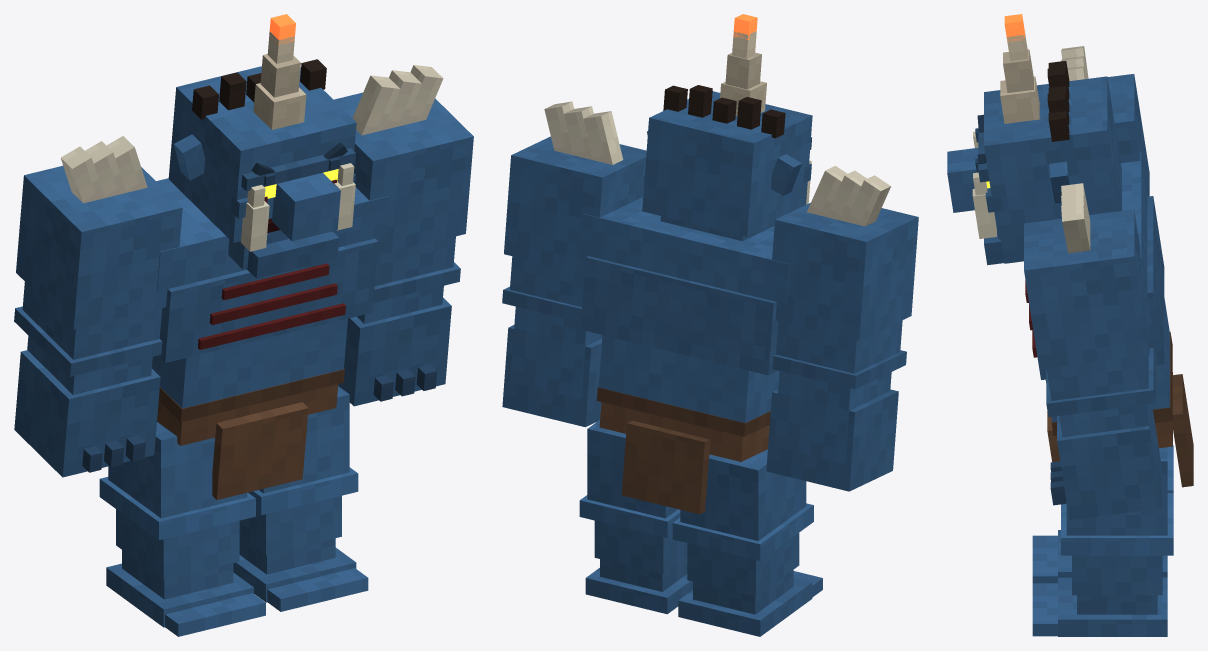
Rendered from ogre_base_evo2.glb.
3 renders of one model, left to right at view 1: azimuth 30°, elevation 25°; view 2: azimuth 150°, elevation 25°; view 3: azimuth 270°, elevation 25°, orthographic. The views are drawn at different scales.
Parts seen in each view (by area): view 1: ArmR, Torso, Head, ArmL, LegR, LegL; view 2: Torso, ArmR, ArmL, Head, LegR, LegL; view 3: ArmL, Head, LegL, Torso, ArmR, LegR.
Part boxes in pixels (box(x1,y1,x2,y2)): ArmR: box(14, 136, 182, 477); Torso: box(152, 178, 389, 499); Head: box(168, 14, 356, 278); ArmL: box(334, 65, 473, 406); LegR: box(99, 422, 265, 636); LegL: box(233, 386, 368, 611); Torso: box(579, 197, 789, 514); ArmR: box(766, 166, 918, 491); ArmL: box(502, 101, 646, 427); Head: box(642, 14, 812, 241); LegR: box(672, 449, 822, 636); LegL: box(579, 420, 692, 614); ArmL: box(1024, 183, 1161, 519); Head: box(947, 14, 1121, 265); LegL: box(1032, 447, 1173, 636); Torso: box(1025, 151, 1193, 501); ArmR: box(1061, 46, 1149, 196); LegR: box(1032, 445, 1173, 583).
Size of the model in its own units: 1.46 by 2.13 by 0.8306.
Materials: 28 (28 with a texture image).
